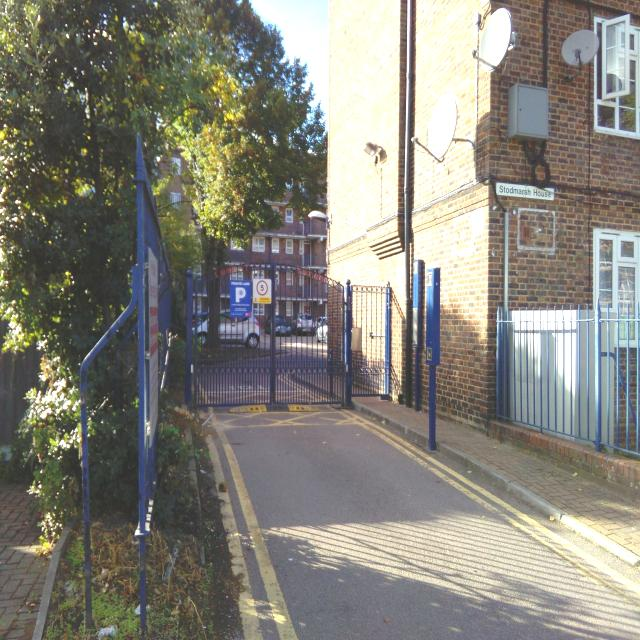car: (193, 306, 261, 351), (295, 312, 315, 336), (273, 315, 292, 337), (316, 316, 330, 342)
